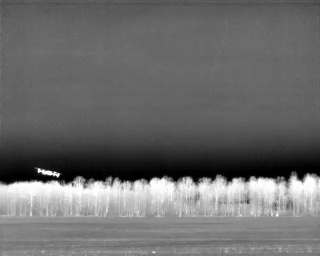DRONE: (32, 163, 64, 180)
